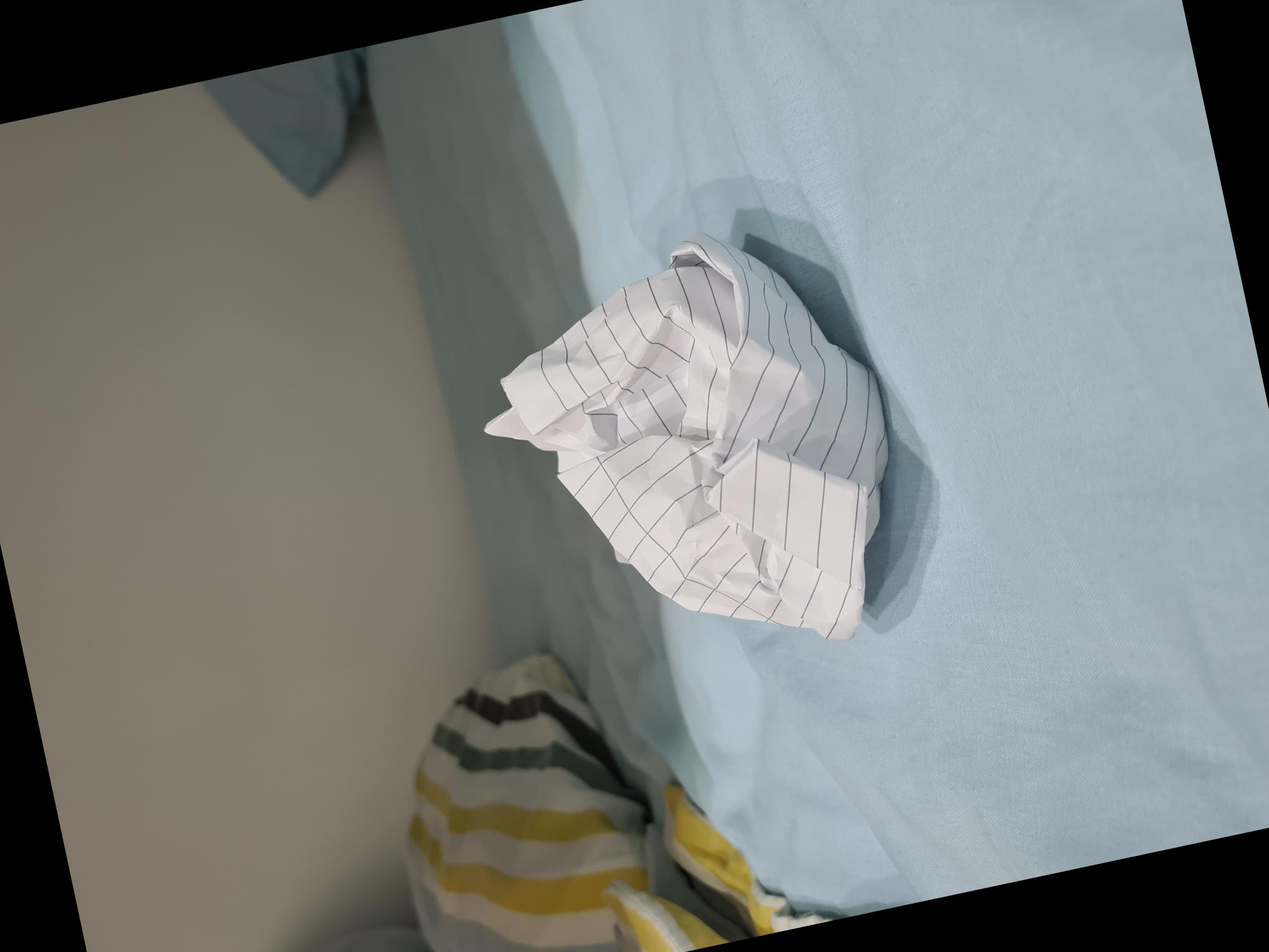Kertas: (349, 526, 759, 944)
